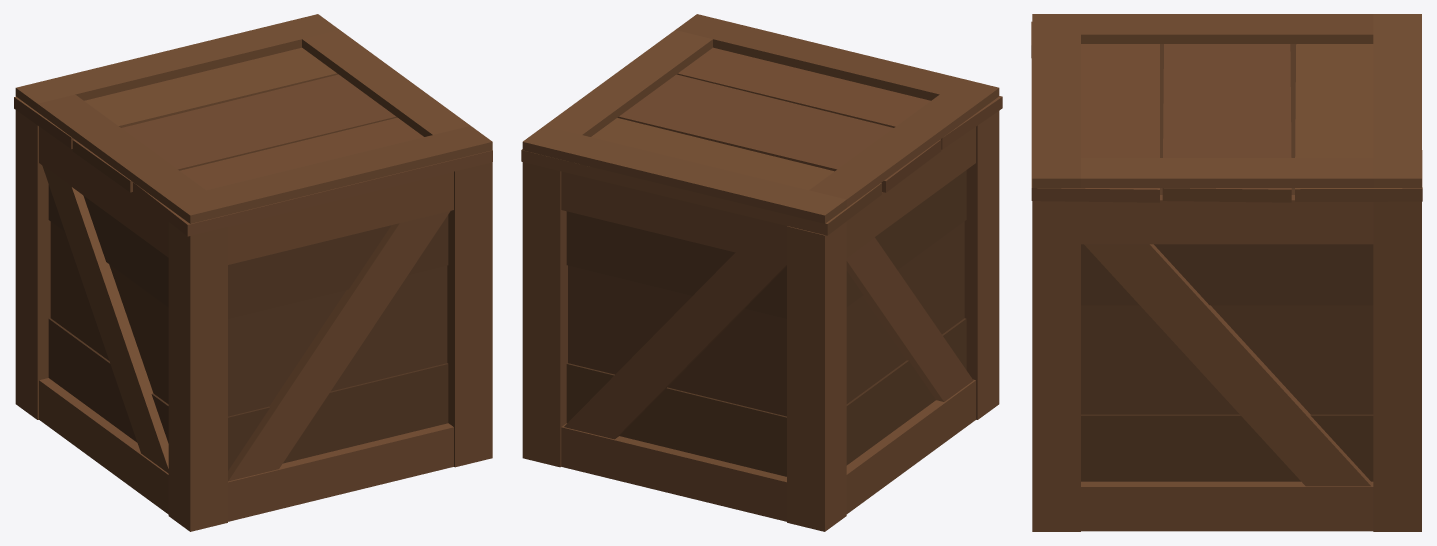
The model's file is tl_furn_crate_small_v01.glb.
3 views of the same model, side by side, from view 1: azimuth 30°, elevation 25°; view 2: azimuth 150°, elevation 25°; view 3: azimuth 270°, elevation 25° (orthographic). The views are drawn at different scales.
Parts seen in each view (by area): view 1: tl_furn_crate_small_v01; view 2: tl_furn_crate_small_v01; view 3: tl_furn_crate_small_v01.
Part boxes in pixels (x1,y1,x2,y2): tl_furn_crate_small_v01: [14, 14, 492, 531]; tl_furn_crate_small_v01: [521, 14, 1002, 531]; tl_furn_crate_small_v01: [1031, 14, 1422, 531].
Bounding box in the file's own units: 0.6121 × 0.6 × 0.6019.
